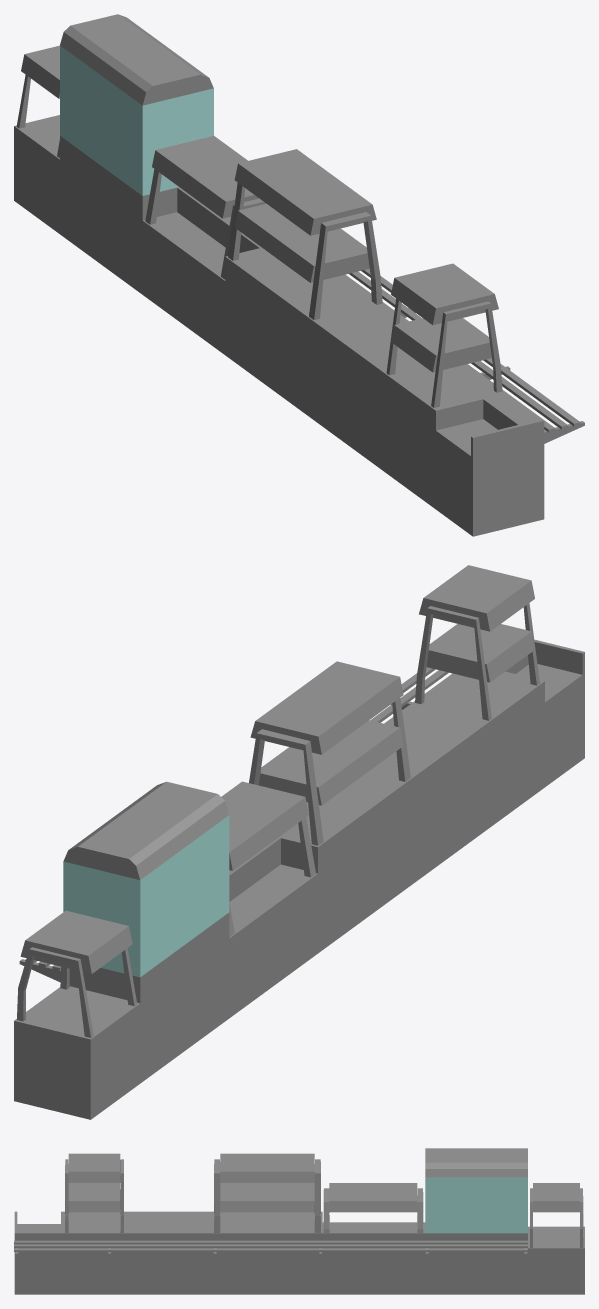
Rendered from razdaja.fbx.
3 views of the same model, one above another, from view 1: azimuth 30°, elevation 25°; view 2: azimuth 150°, elevation 25°; view 3: azimuth 270°, elevation 25° (orthographic). The views are drawn at different scales.
Parts seen in each view (by area): view 1: Cube; view 2: Cube; view 3: Cube.
Part boxes in pixels (x1,y1,x2,y2): Cube: (14,14,584,536); Cube: (14,565,584,1119); Cube: (14,1148,584,1294).
Size of the model in its own units: 110 by 193 by 781.
